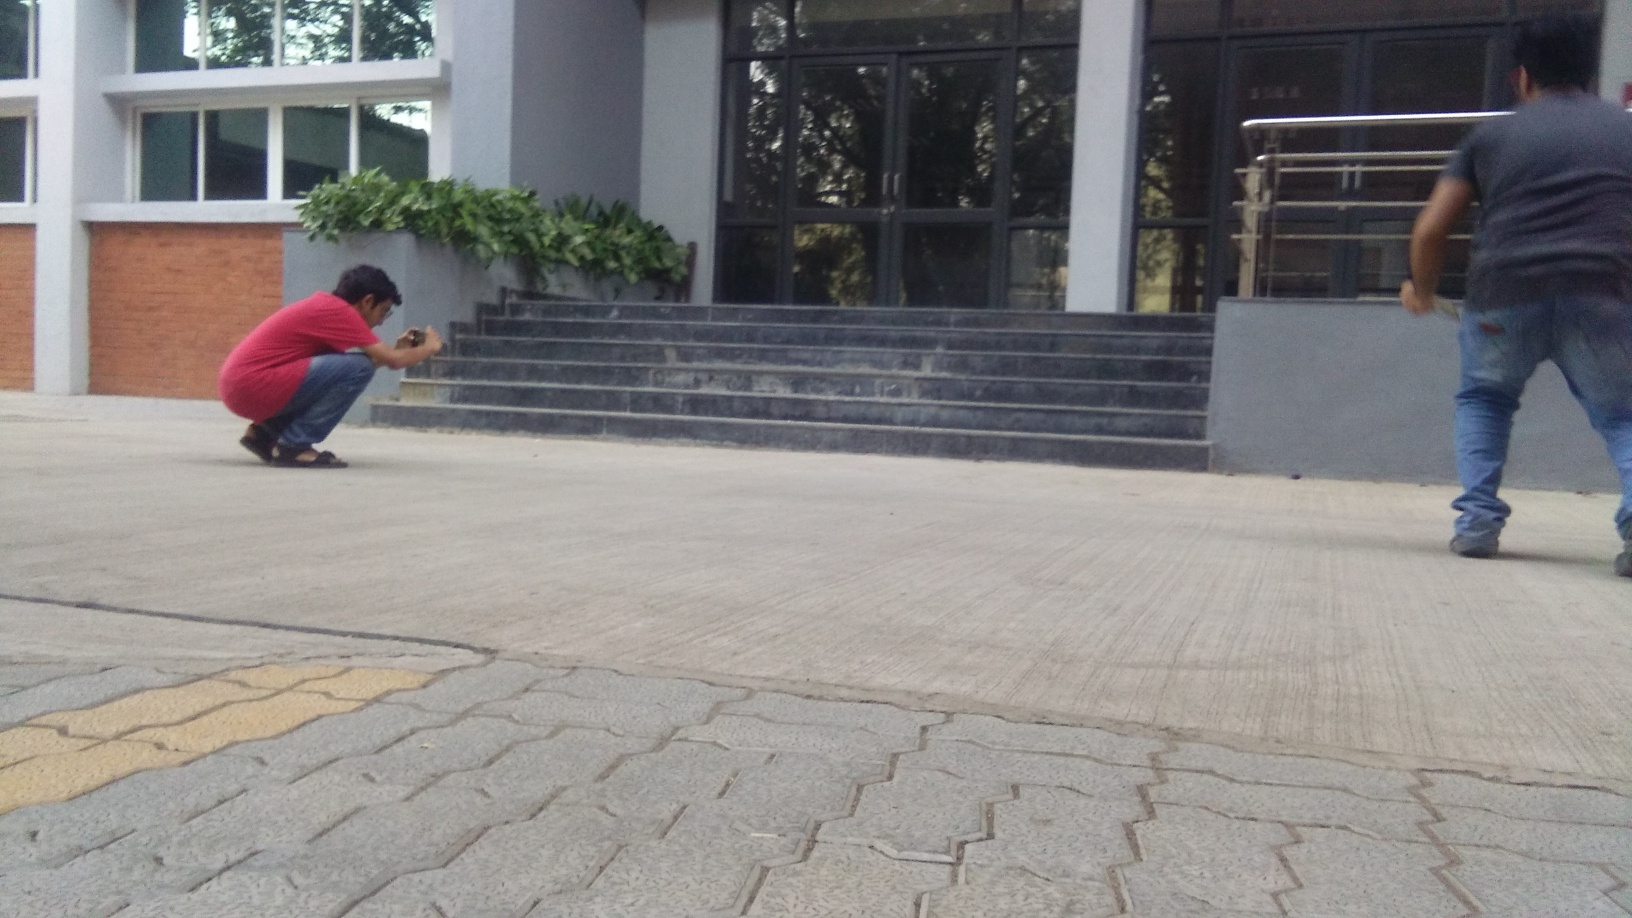stairs_up: (420, 305, 1216, 443)
